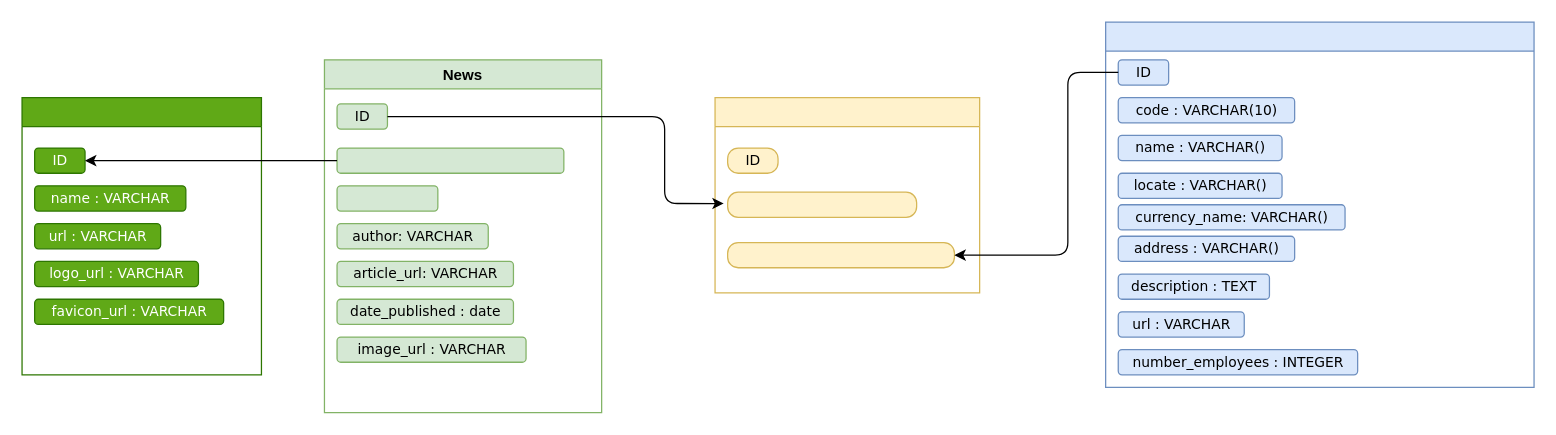
Image size: 1556x435. Some labels were removed from this diagram. Here are the shapes that lost their labels. From the top down, the box of each, then its label:
(336, 147, 564, 173): publisher_id : FOREIGN KEY
(336, 185, 438, 211): title: TEXT
(726, 191, 917, 217): news_id: FOREIGN KEY
(714, 96, 980, 293): NewsCompany
(1104, 21, 1534, 387): Company
(21, 96, 261, 375): Publisher
(726, 241, 954, 268): company_id: FOREIGN KEY
